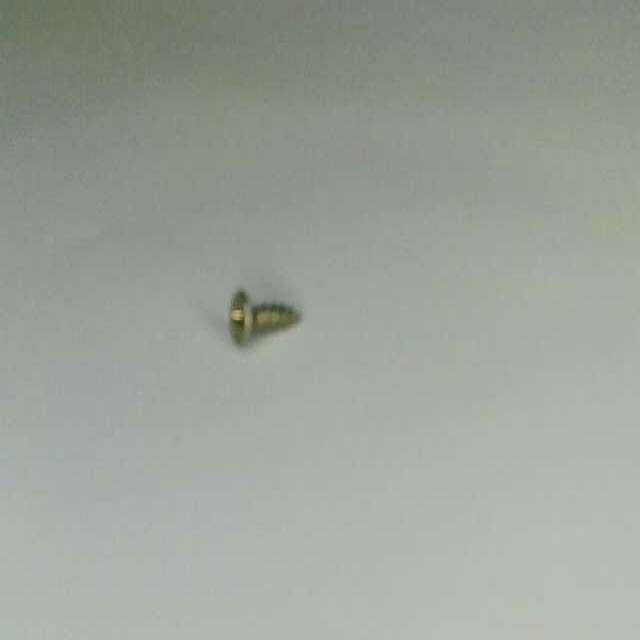Parafuso: (230, 289, 298, 344)
